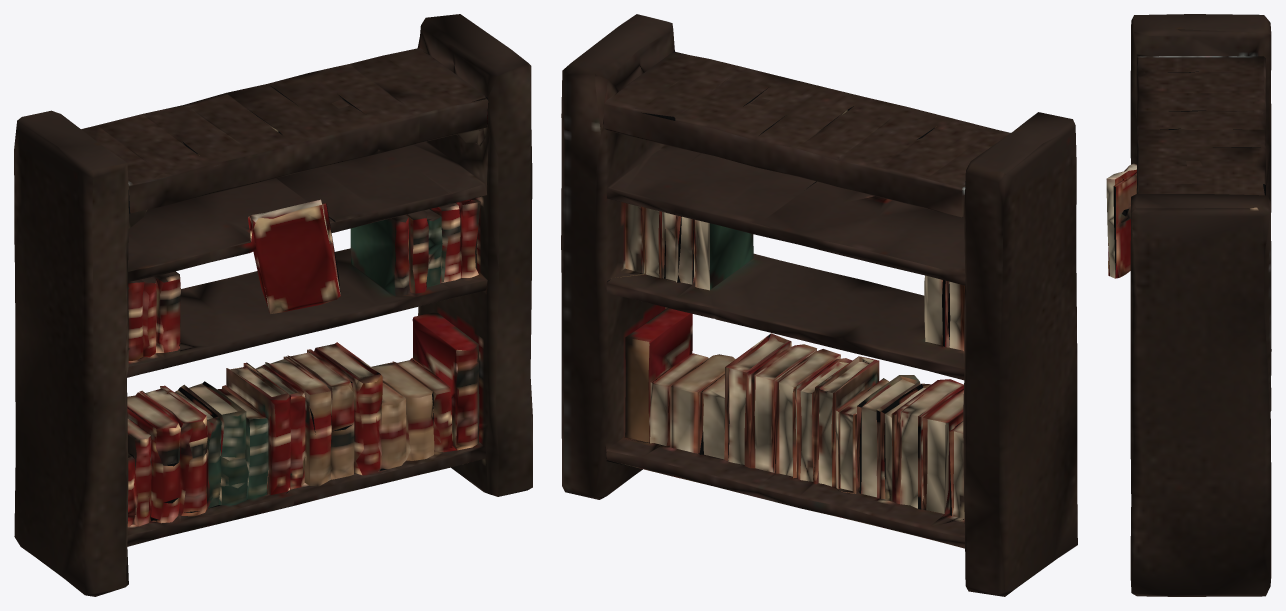
The model's file is bookshelf_book.glb.
The picture shows the model from 3 angles, left to right: view 1: azimuth 30°, elevation 25°; view 2: azimuth 150°, elevation 25°; view 3: azimuth 270°, elevation 25°; orthographic projection. The views are drawn at different scales.
Visible parts, largest first — view 1: Mesh_0.001; view 2: Mesh_0.001; view 3: Mesh_0.001.
Boxes of the visible parts, bbox=[...] form: Mesh_0.001: bbox=[14, 14, 532, 596]; Mesh_0.001: bbox=[561, 14, 1077, 596]; Mesh_0.001: bbox=[1106, 14, 1271, 596].
Size of the model in its own units: 1.9 by 1.74 by 0.6696.
1 material, 1 textured.
